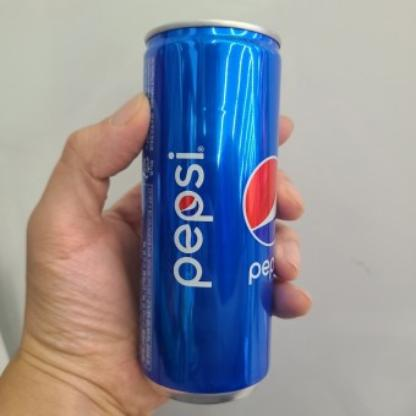Can: (136, 18, 282, 404)
